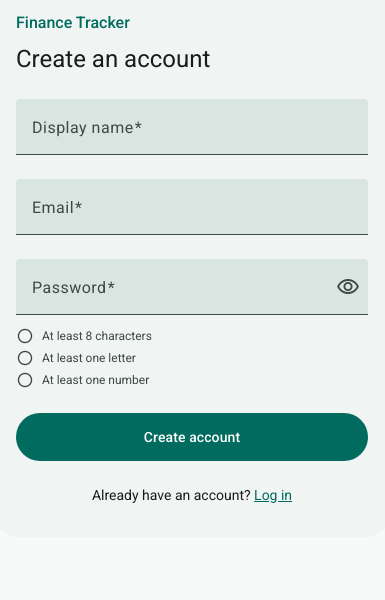
Test case: RegisterComponent › offers to log in instead when the email is taken (409)
Type " Kasia " into the field labelled "Display name". click: (192, 135)
box: [32, 123, 352, 147]
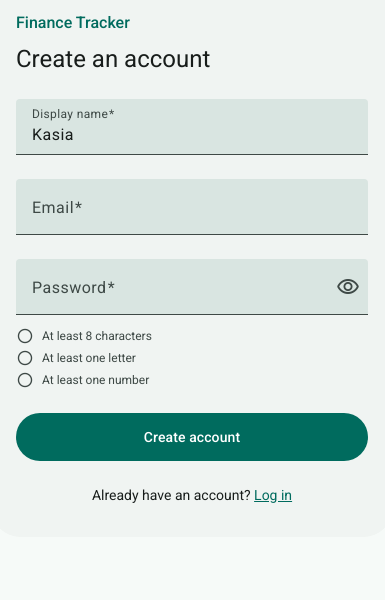
Type "kasia@example.com" into the field labelled "Email". click: (192, 215)
box: [32, 203, 352, 227]
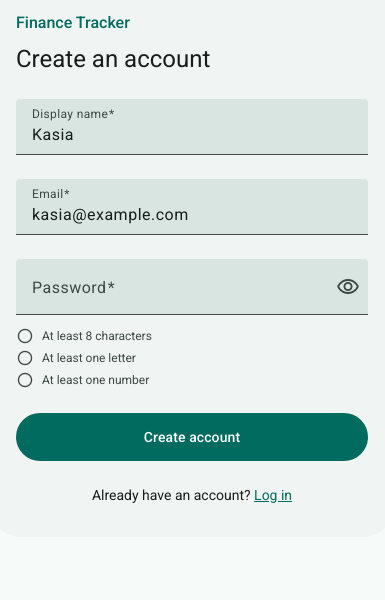
Type "kasia2026" into the password field labelled "Password". click: (178, 295)
box: [32, 283, 324, 307]
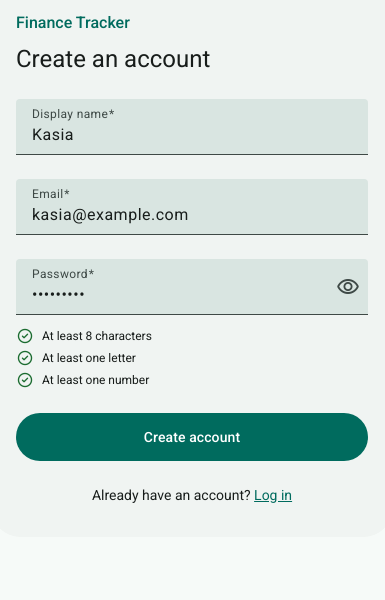
Click the submit button. click: (192, 437)
box: [16, 413, 368, 461]
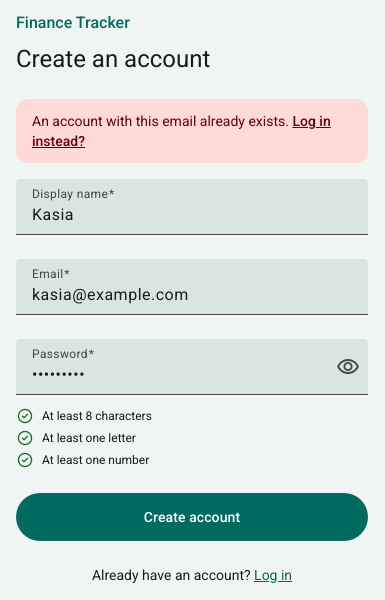
Expected: the element showing "An account with this email already exists. Log in instead?" is shown, [32, 111, 352, 151]
Expected: the link "Log in instead?" is shown, [32, 113, 331, 149]
